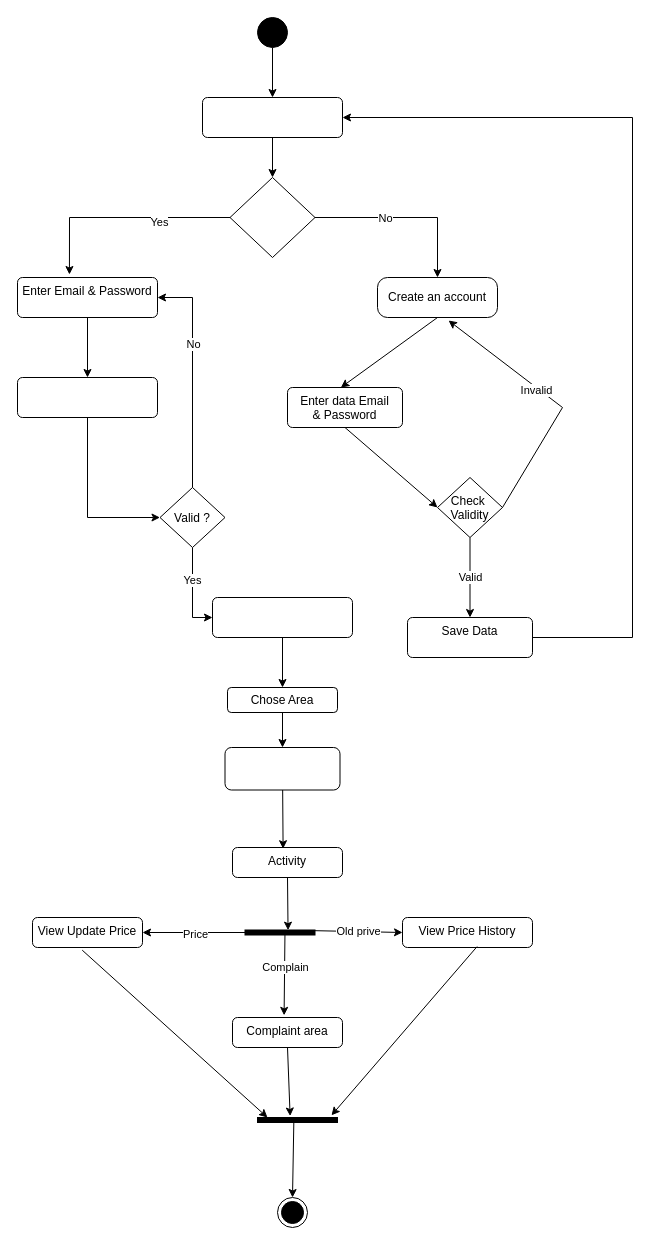
This 658x1245 diagram has some shape labels left out. Here are the shapes that lost their labels. From the top down, the centre of each, then its label:
At pixel 272 117: "Website access".
At pixel 272 217: "Have an account ?".
At pixel 87 397: "Validation".
At pixel 282 617: "Website Display".
At pixel 282 768: "Choose Food Items".
